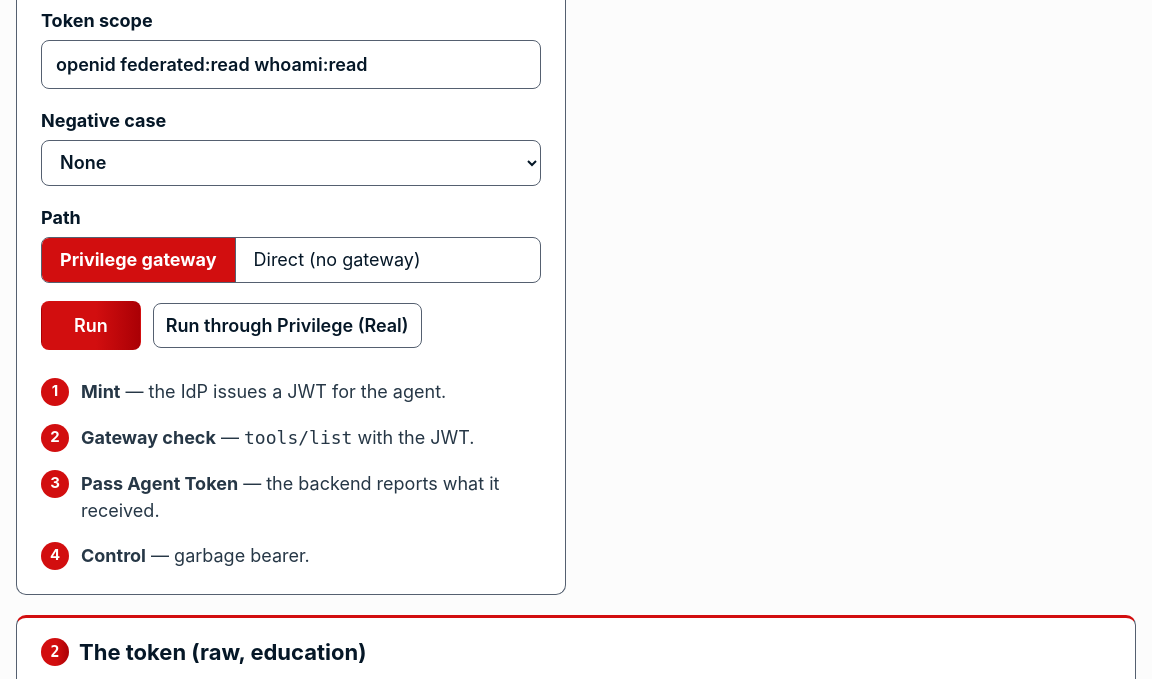
Workload Identity Lab › the JWT box has a Decode toggle: header and payload decoded, then back to raw
(page scrolled)
Click the button with test id "run-btn": (91, 325) x1=41 y1=301 x2=141 y2=350
(page scrolled)
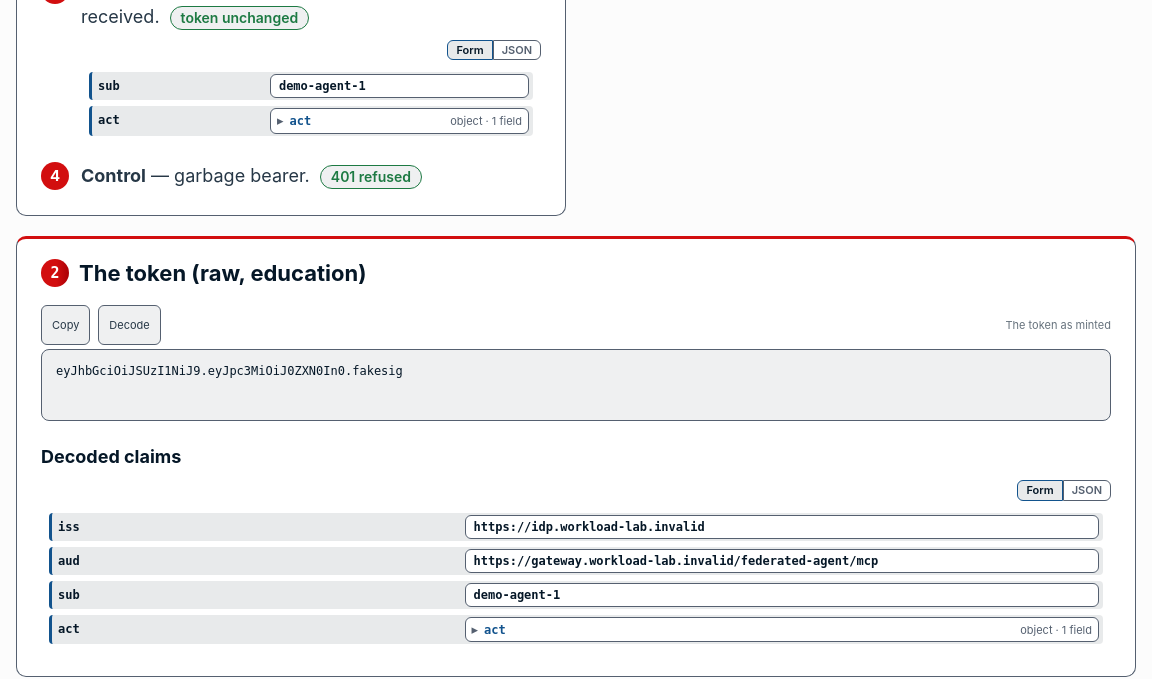
Check: the text "eyJhbGciOiJSUzI1NiJ9.eyJpc3MiOiJ0ZXN0In0.fakesig" is shown, box x1=41 y1=349 x2=1111 y2=421
Click the button with test id "raw-token-decode": (130, 325) x1=98 y1=305 x2=161 y2=345
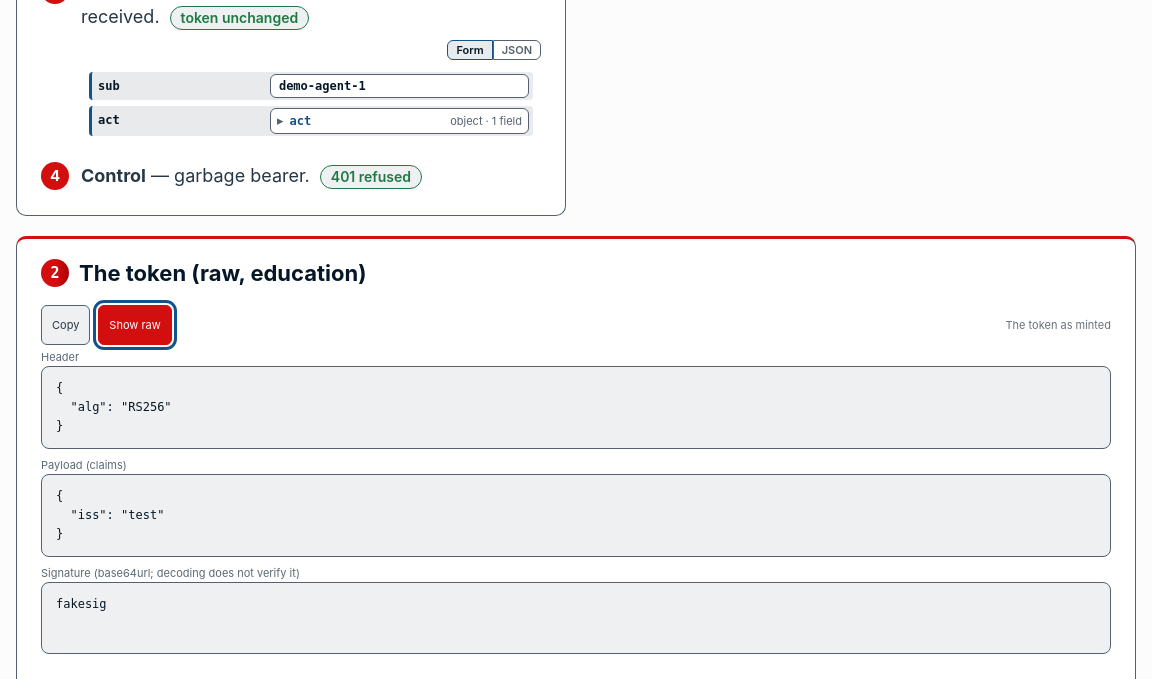
Check: the text with test id "raw-token-decoded-signature" reads "fakesig", box x1=56 y1=597 x2=107 y2=611
Check: the text with test id "raw-token-decoded-header" shows "\"alg\": \"RS256\"", box x1=56 y1=380 x2=172 y2=433
Check: the text with test id "raw-token-decoded-payload" shows "\"iss\": \"test\"", box x1=56 y1=489 x2=164 y2=541
Click the button with test id "raw-token-decode": (135, 325) x1=98 y1=305 x2=172 y2=345
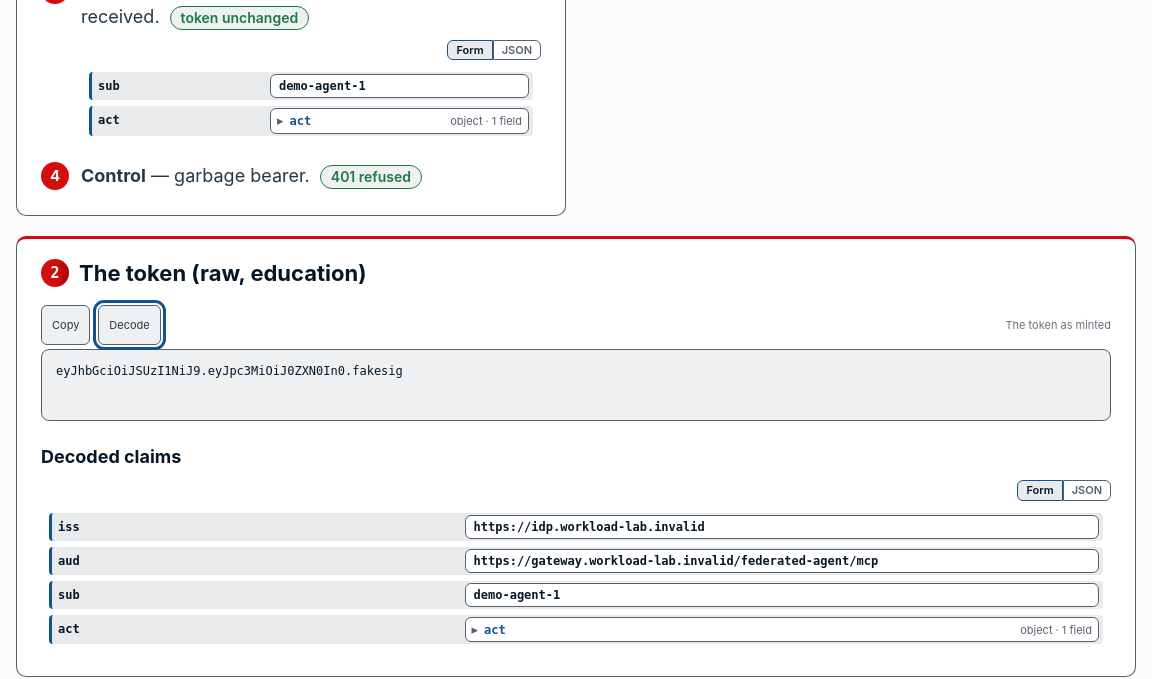
Check: the text with test id "raw-token-text" shows "eyJ", box x1=56 y1=364 x2=403 y2=378
